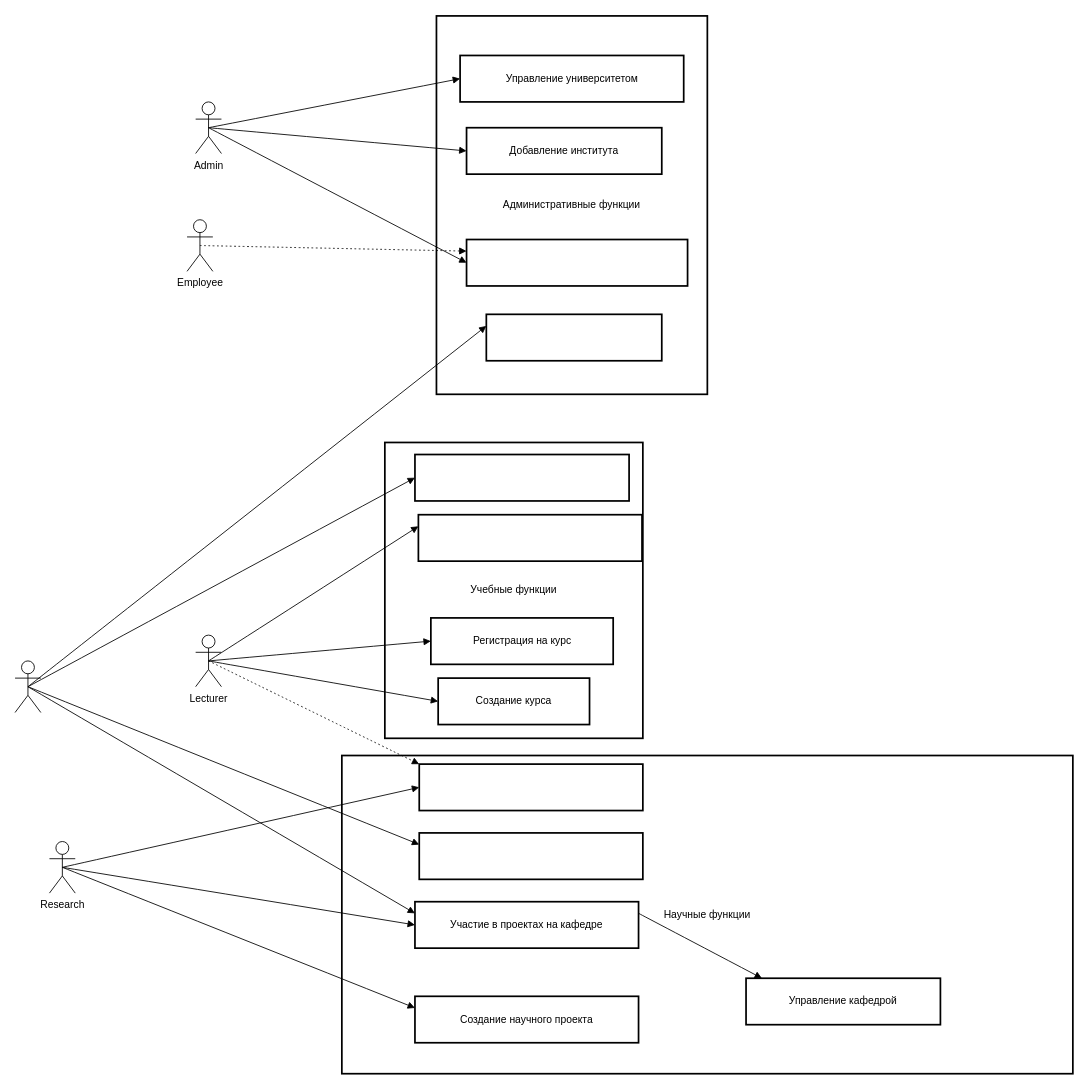
This 1089x1089 diagram has some shape labels left out. The shapes that lost their labels are listed below. From the top down, each one's centre as x and y in pixels, then its label:
At [576,262]: "Управление сотрудниками".
At [573,337]: "Назначение декана".
At [522,477]: "Управление факультетом".
At [529,537]: "Проведение учебных занятий".
At [27,686]: "Dean".
At [530,787]: "Участие в научно-исследовательских проектах".
At [530,856]: "Проведение научных исследований".
